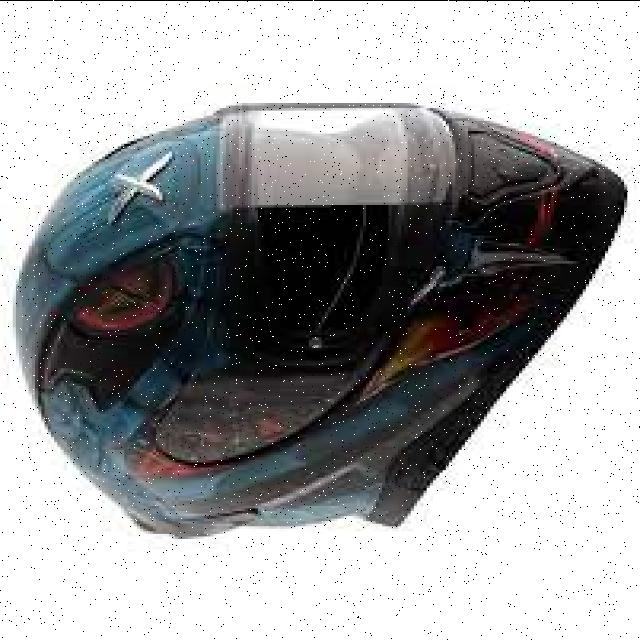Helmet: (19, 103, 624, 537)
